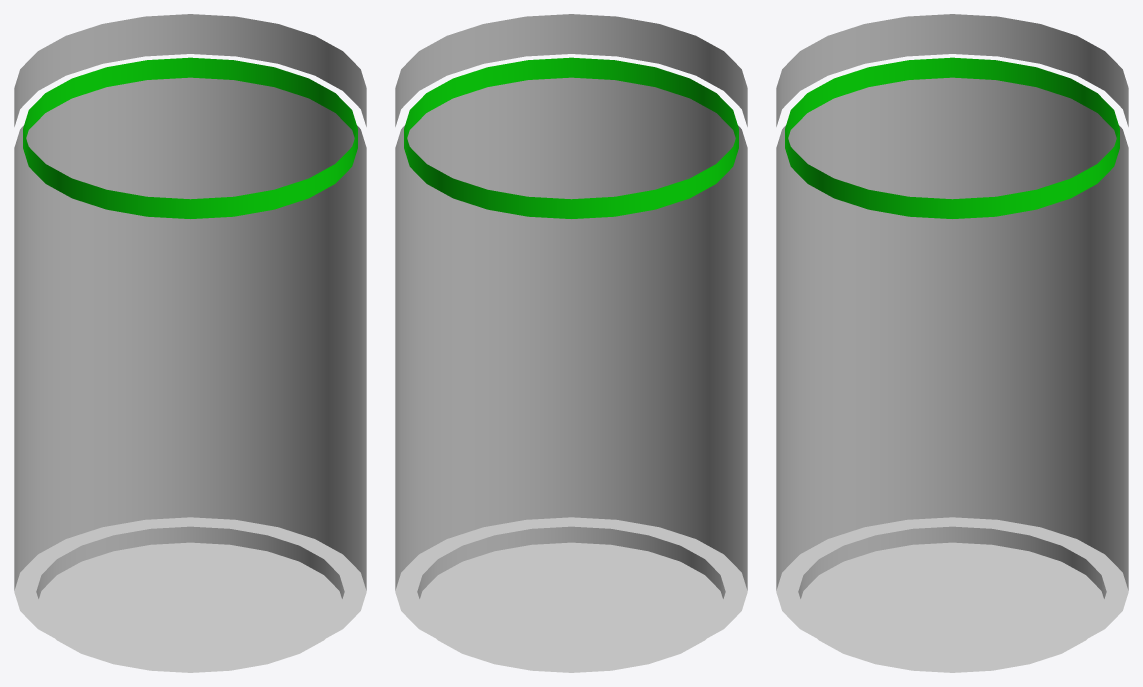
The model's file is standee-06.glb.
3 views of the same model, side by side, from view 1: azimuth 30°, elevation 25°; view 2: azimuth 150°, elevation 25°; view 3: azimuth 270°, elevation 25° (orthographic).
Visible parts, largest first — view 1: 3DGeom-6, 3DGeom-7; view 2: 3DGeom-6, 3DGeom-7; view 3: 3DGeom-6, 3DGeom-7.
Part boxes in pixels (box(x1,y1,x2,y2)): 3DGeom-6: box(14, 14, 366, 672); 3DGeom-7: box(23, 57, 357, 218); 3DGeom-6: box(395, 14, 747, 672); 3DGeom-7: box(404, 57, 738, 218); 3DGeom-6: box(776, 14, 1128, 672); 3DGeom-7: box(785, 57, 1119, 218).
Size of the model in its own units: 0.4 by 0.65 by 0.4.
